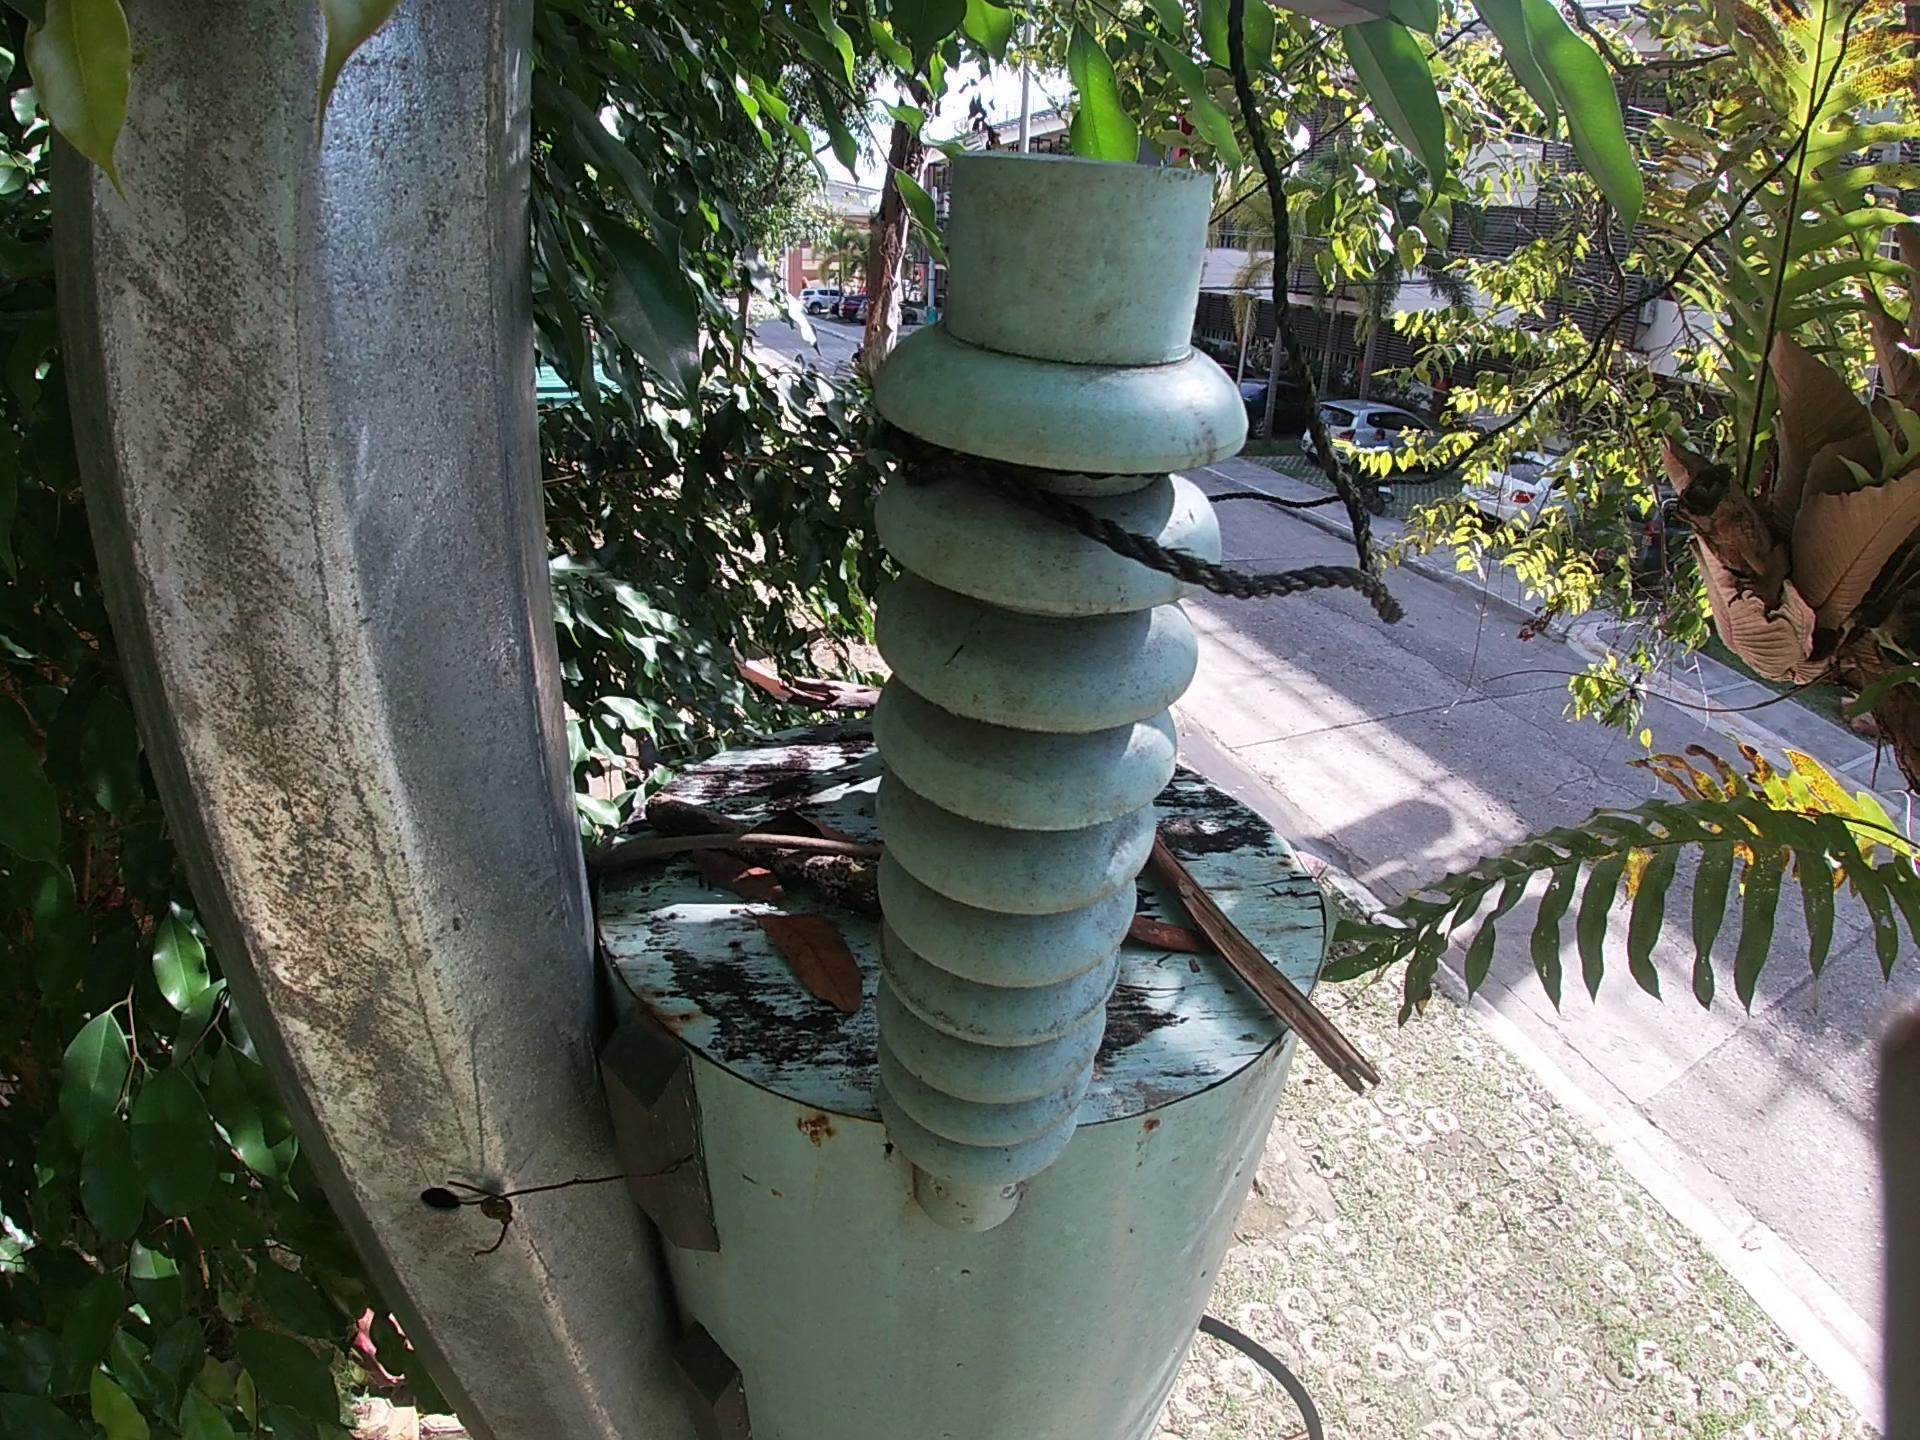leaf: (760, 903, 869, 1013), (689, 852, 782, 917), (745, 809, 860, 844)
mahogany fruit: (1132, 914, 1206, 988)
tree branch: (1150, 811, 1394, 1106), (641, 785, 869, 892), (711, 637, 887, 725), (615, 824, 872, 864)
